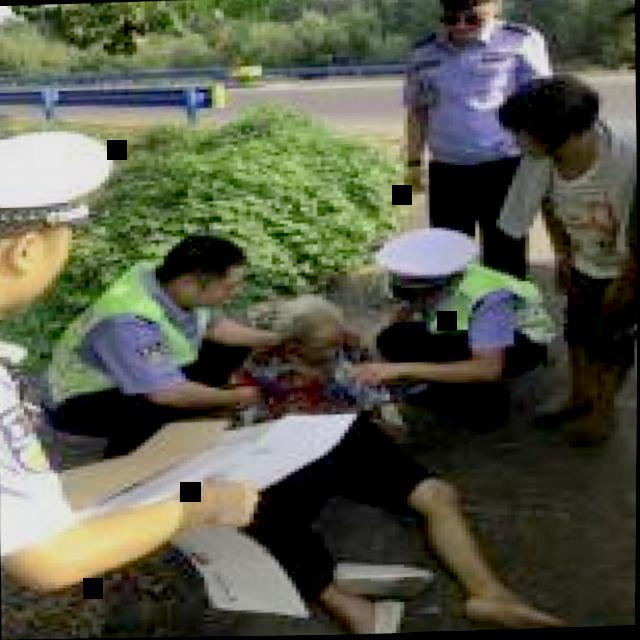Fall-Detected: (236, 262, 577, 637)
